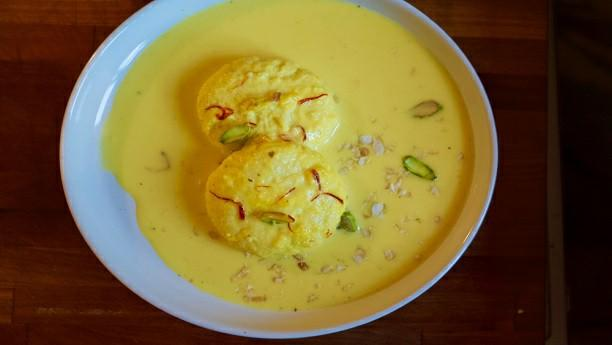RasMalai: (102, 0, 472, 314)
